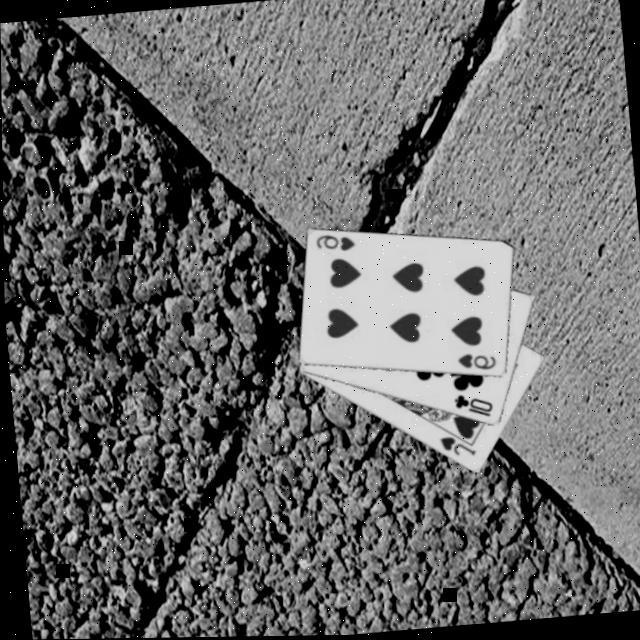10C: (447, 391, 493, 425)
6H: (451, 350, 496, 378), (310, 231, 355, 258)
JH: (433, 433, 475, 464)
